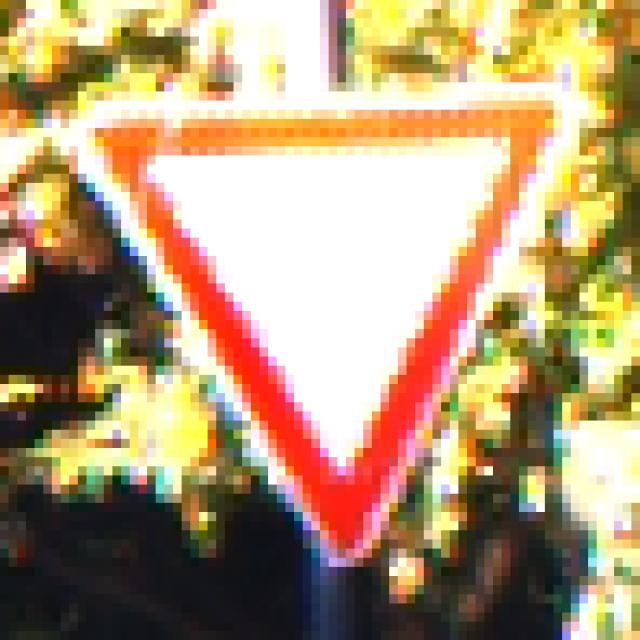Give Way: (53, 65, 580, 586)
